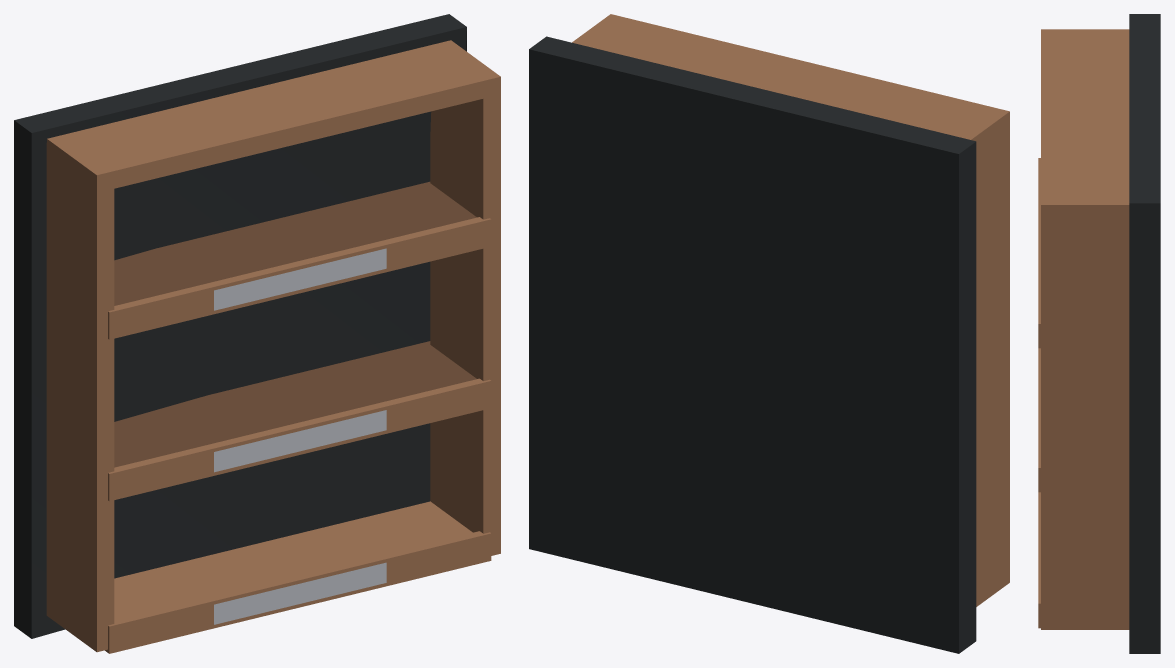
File: SM_Prop_Barber_Shelf_01.obj
3 renders of one model, left to right at view 1: azimuth 30°, elevation 25°; view 2: azimuth 150°, elevation 25°; view 3: azimuth 270°, elevation 25°, orthographic. The views are drawn at different scales.
Visible parts, largest first — view 1: SM_Prop_Barber_Shelf_01_0; view 2: SM_Prop_Barber_Shelf_01_0; view 3: SM_Prop_Barber_Shelf_01_0.
Boxes of the visible parts, x1,y1,x2,y2 form: SM_Prop_Barber_Shelf_01_0: [14, 14, 500, 653]; SM_Prop_Barber_Shelf_01_0: [529, 14, 1009, 653]; SM_Prop_Barber_Shelf_01_0: [1038, 14, 1160, 653].
Bounding box in the file's own units: 1.3 × 1.44 × 0.3552.
1 material, 1 textured.
